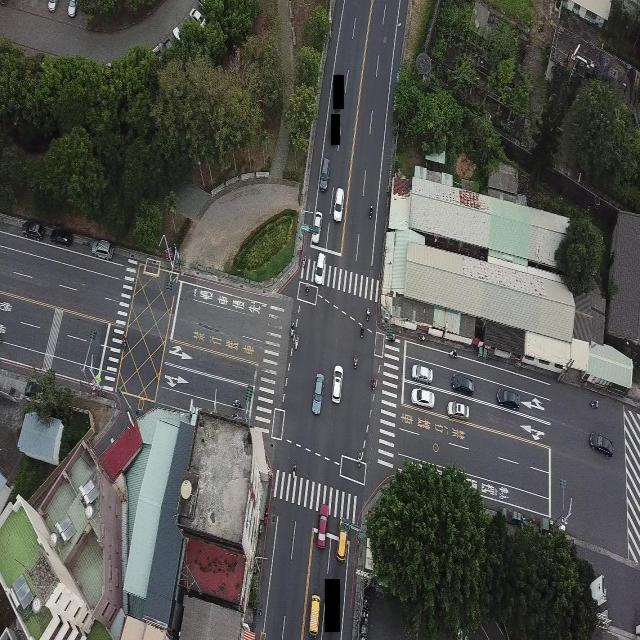bike: (232, 398, 244, 410), (448, 347, 459, 360), (121, 333, 127, 352), (370, 376, 377, 392), (291, 462, 298, 478), (368, 204, 374, 220), (365, 306, 371, 322), (352, 353, 358, 368), (360, 322, 365, 340), (294, 335, 300, 350), (589, 399, 598, 408), (305, 282, 310, 297), (290, 321, 295, 336), (357, 451, 361, 468), (302, 254, 307, 267)
car: (588, 432, 614, 456), (308, 594, 322, 637), (310, 372, 324, 414), (496, 385, 520, 408), (410, 385, 435, 407), (449, 372, 474, 394), (20, 217, 43, 240), (315, 507, 328, 547), (49, 224, 72, 245), (446, 399, 470, 419), (332, 186, 345, 222), (91, 237, 112, 259), (410, 362, 433, 382), (331, 365, 343, 402), (319, 158, 331, 192), (335, 531, 348, 561), (313, 252, 325, 284), (311, 211, 321, 244), (189, 7, 206, 26), (47, 0, 57, 11)
